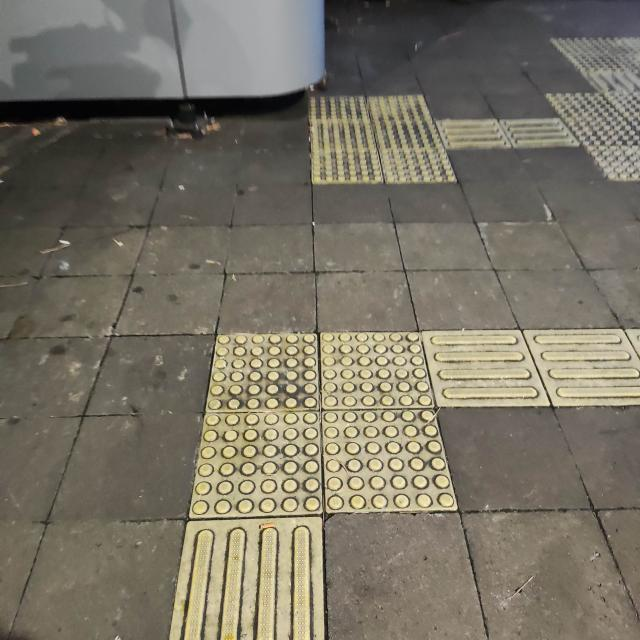kanan: (125, 269, 640, 578)
